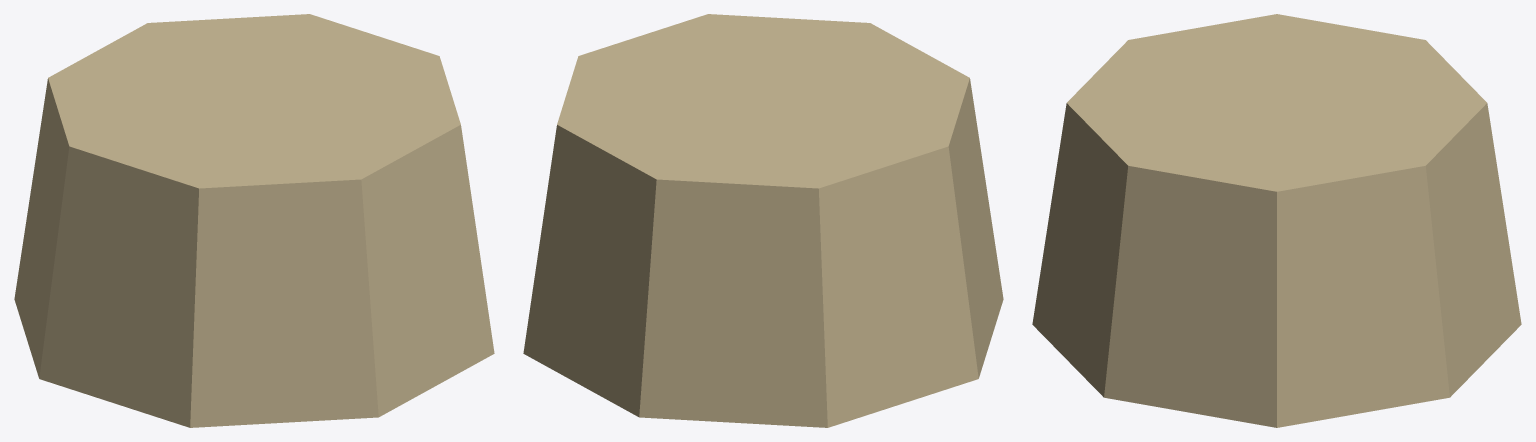
File: Equip_Forearm.fbx
3 renders of one model, left to right at view 1: azimuth 30°, elevation 25°; view 2: azimuth 150°, elevation 25°; view 3: azimuth 270°, elevation 25°, orthographic.
Visible parts, largest first — view 1: Equip_Forearm; view 2: Equip_Forearm; view 3: Equip_Forearm.
Part boxes in pixels (x1,y1,x2,y2): Equip_Forearm: [14, 14, 494, 427]; Equip_Forearm: [523, 14, 1003, 427]; Equip_Forearm: [1032, 14, 1521, 427].
Bounding box in the file's own units: 2 × 1 × 2.
